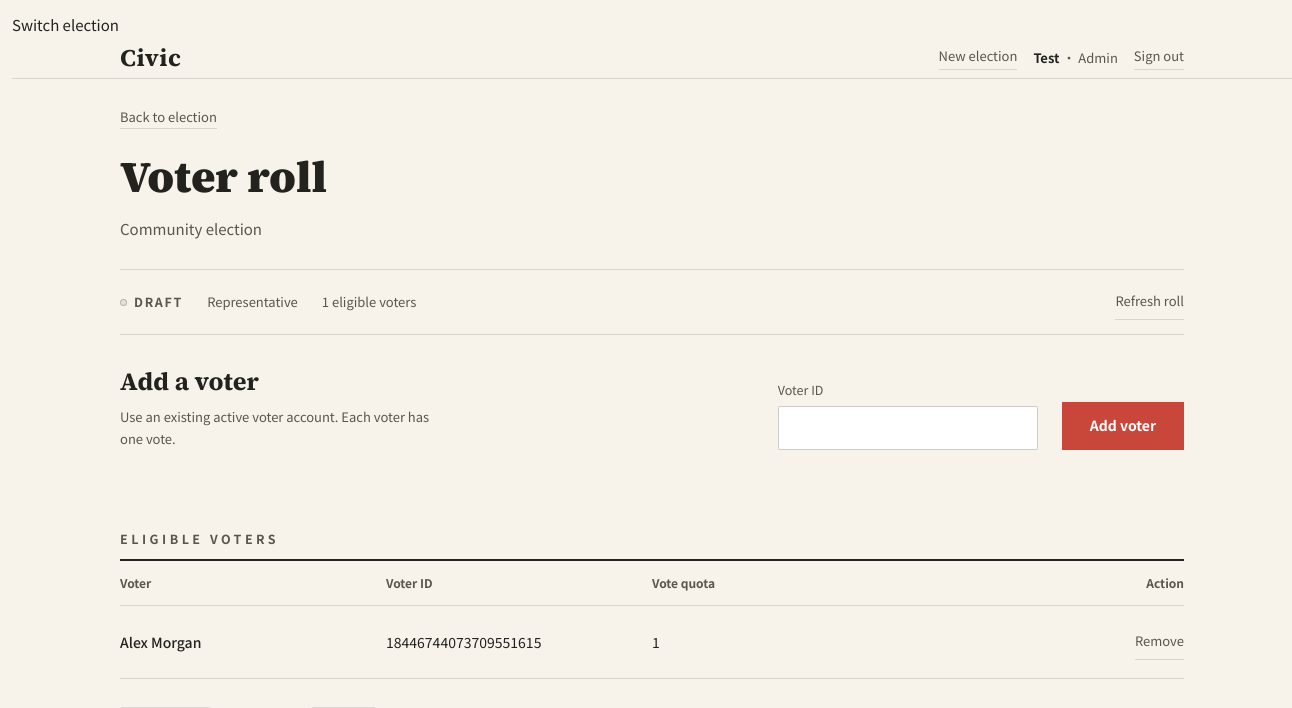
Test: voter roll workflow › rejects invalid single voter ID 0
Type "0" into the field labelled "Voter ID". click: (908, 428)
box: [778,406,1038,450]
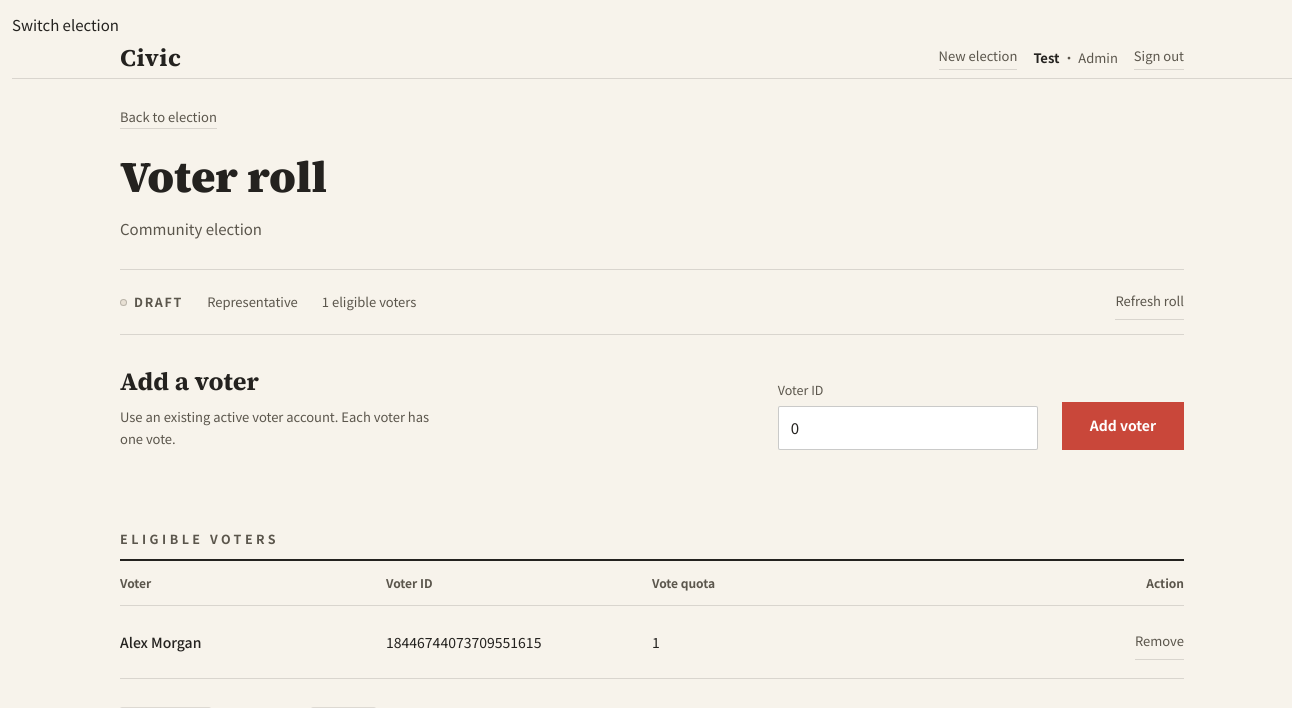
Click the button "Add voter". click: (1123, 426)
box: [1062,402,1184,450]
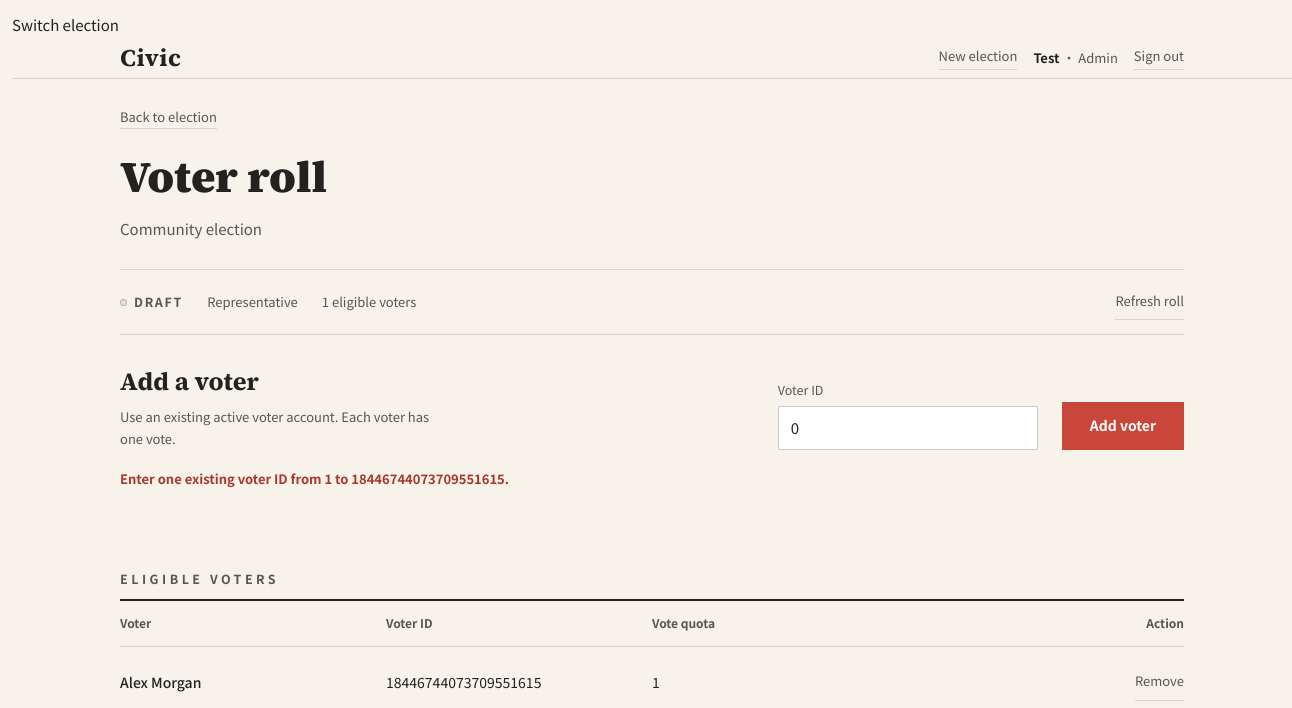
Result: the message shows "Enter one existing voter ID" at [120,469,509,488]
